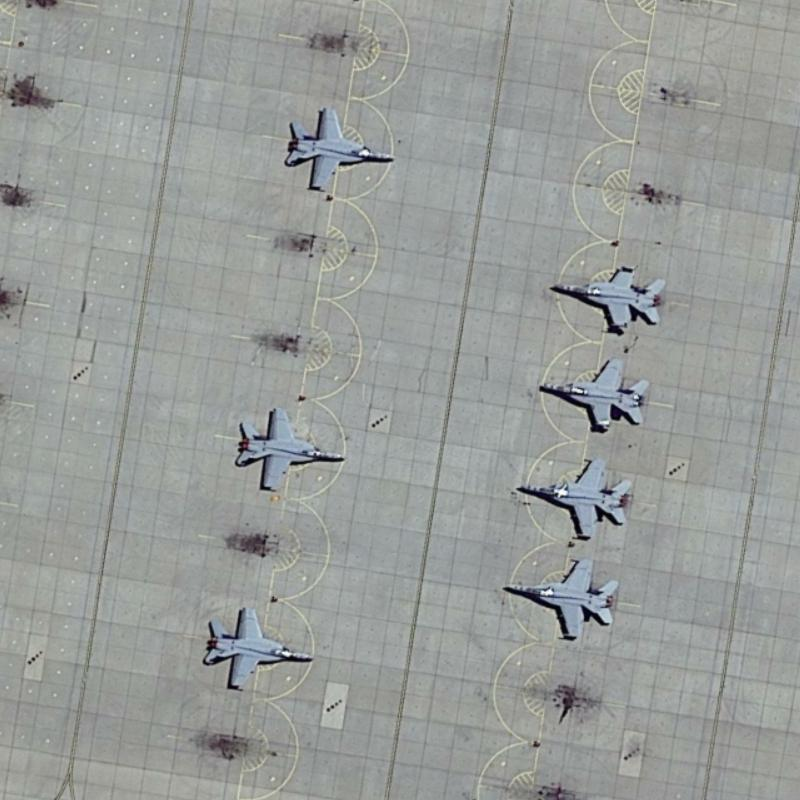A16: (492, 548, 621, 644), (280, 97, 399, 194), (195, 598, 315, 694), (227, 402, 347, 497), (540, 254, 671, 338), (512, 454, 634, 543), (532, 352, 654, 436)
